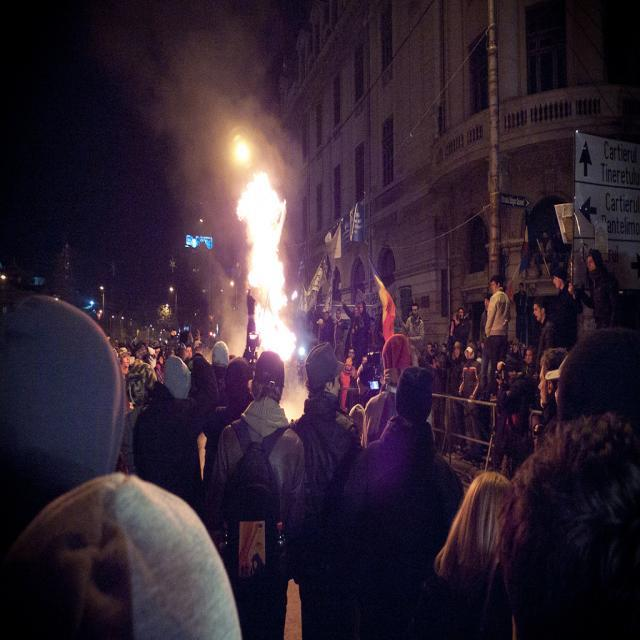Fire: (238, 180, 297, 360)
